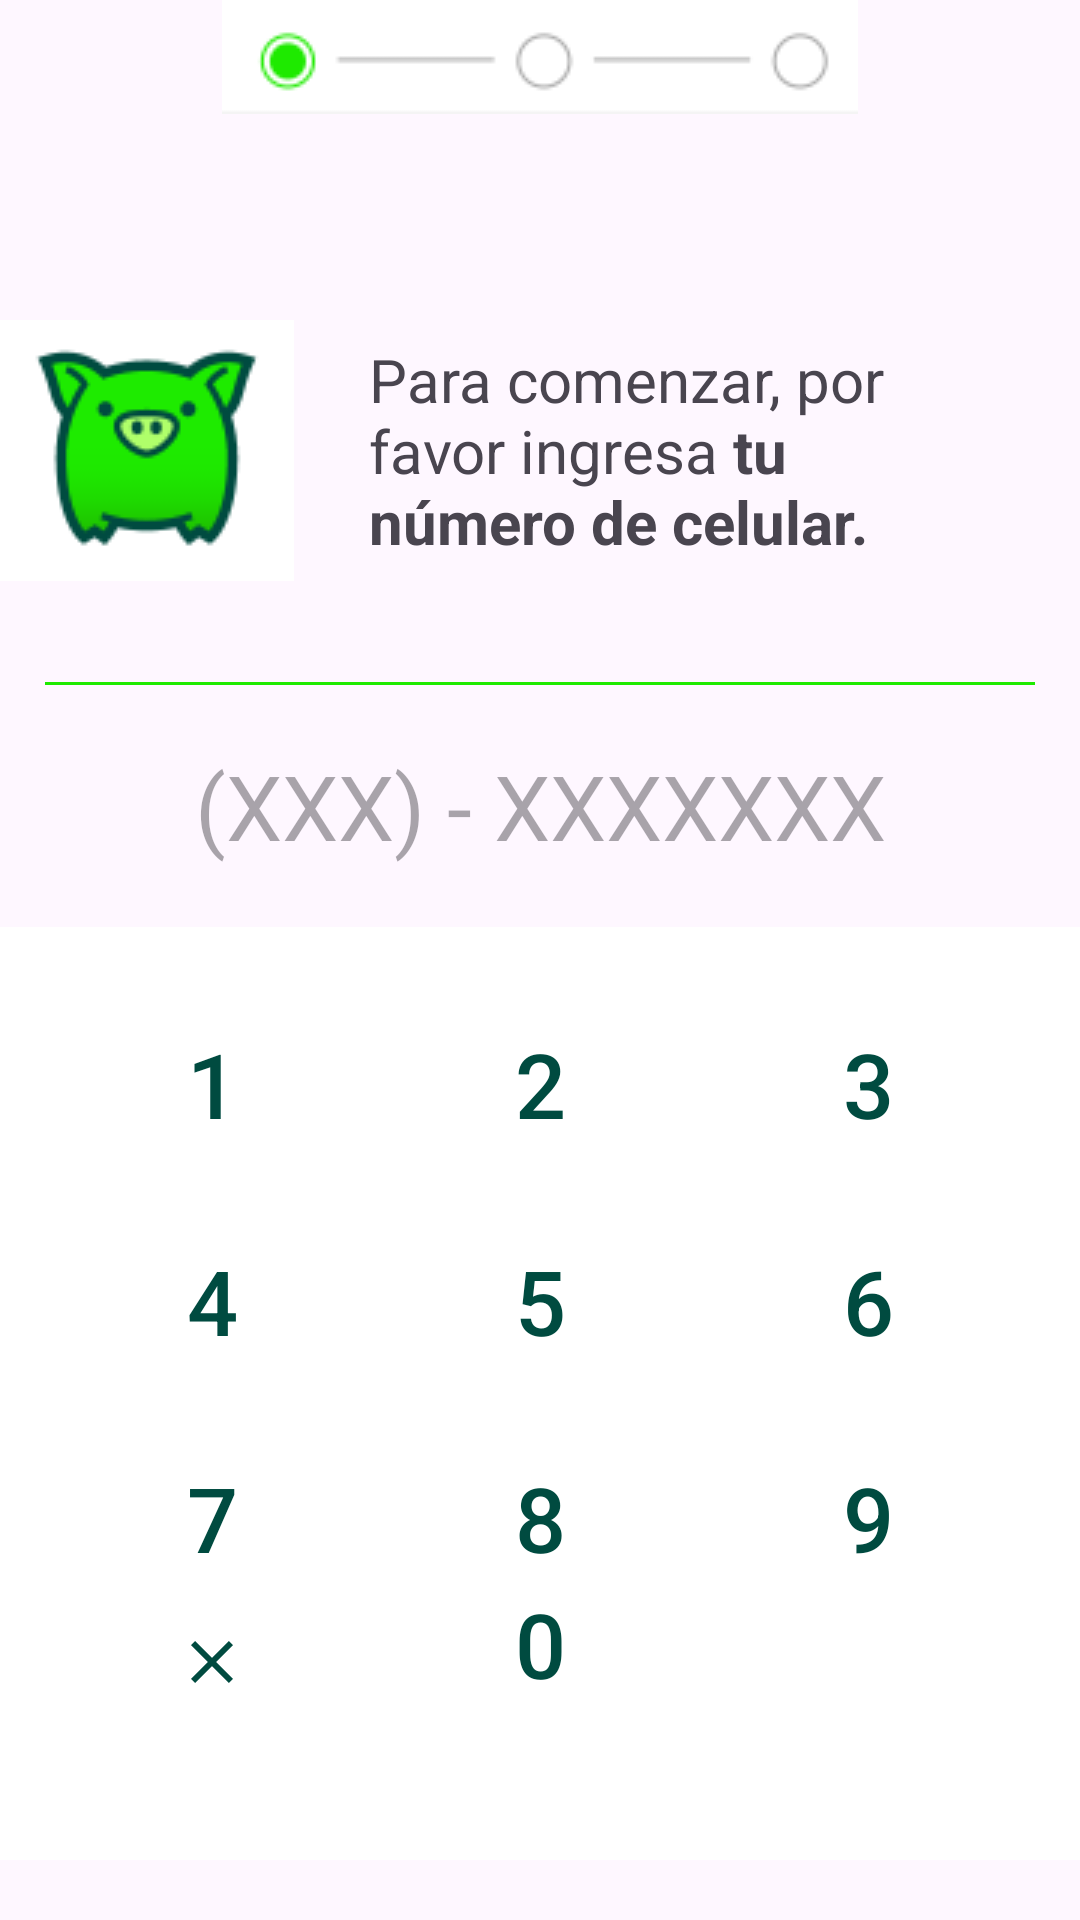

Screen size 1080 × 1920. Icon name, then its box in pixels as {"x1": x1, "y1": y1, "x2": x2, "y2": y2}:
coink pork: {"x1": 37, "y1": 350, "x2": 256, "y2": 546}
